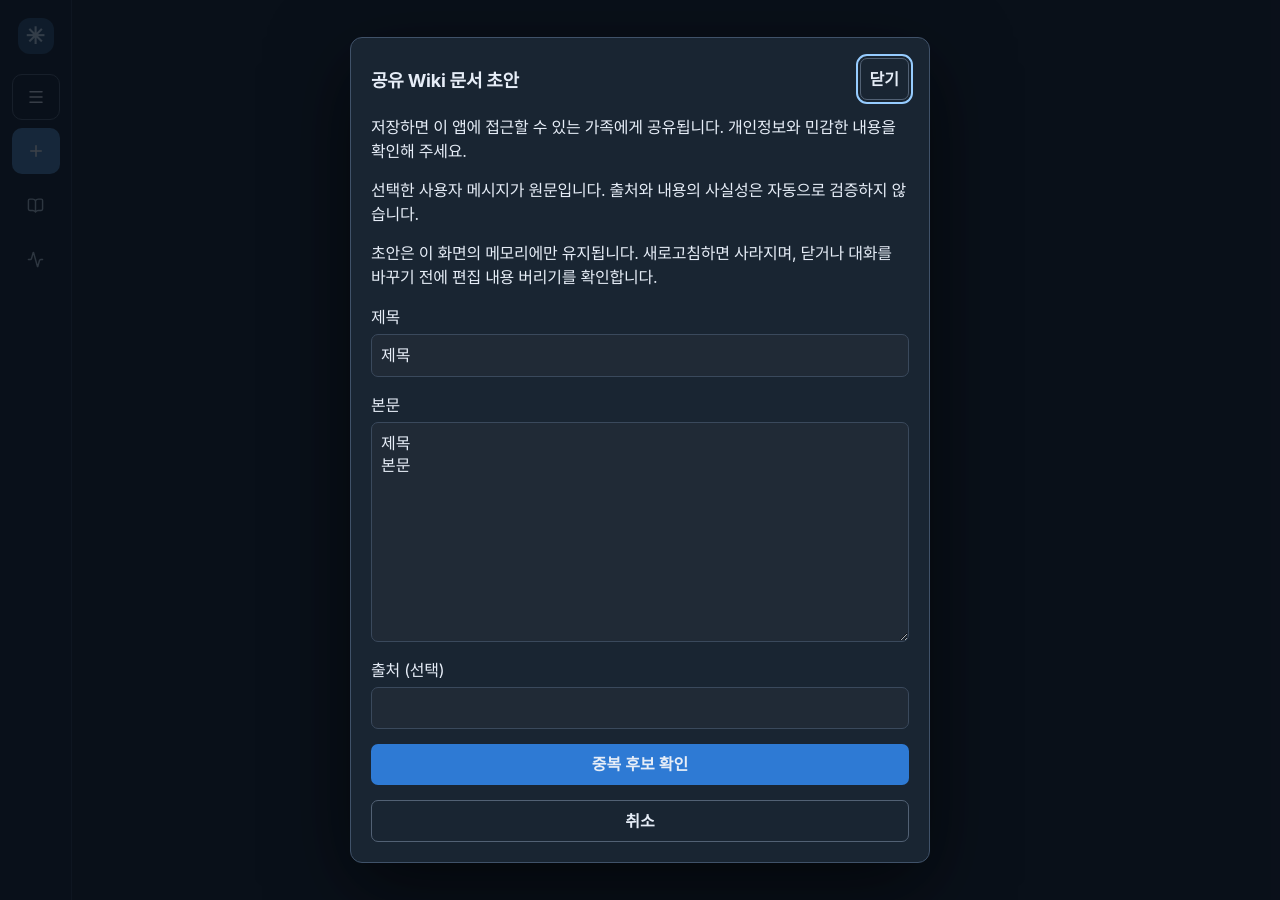
Test: reviews duplicates before saving and retries an unknown result with identical input
The image size is (1280, 900).
Click the button "중복 후보 확인" at (640, 764), box [371,744,909,785]
(page scrolled)
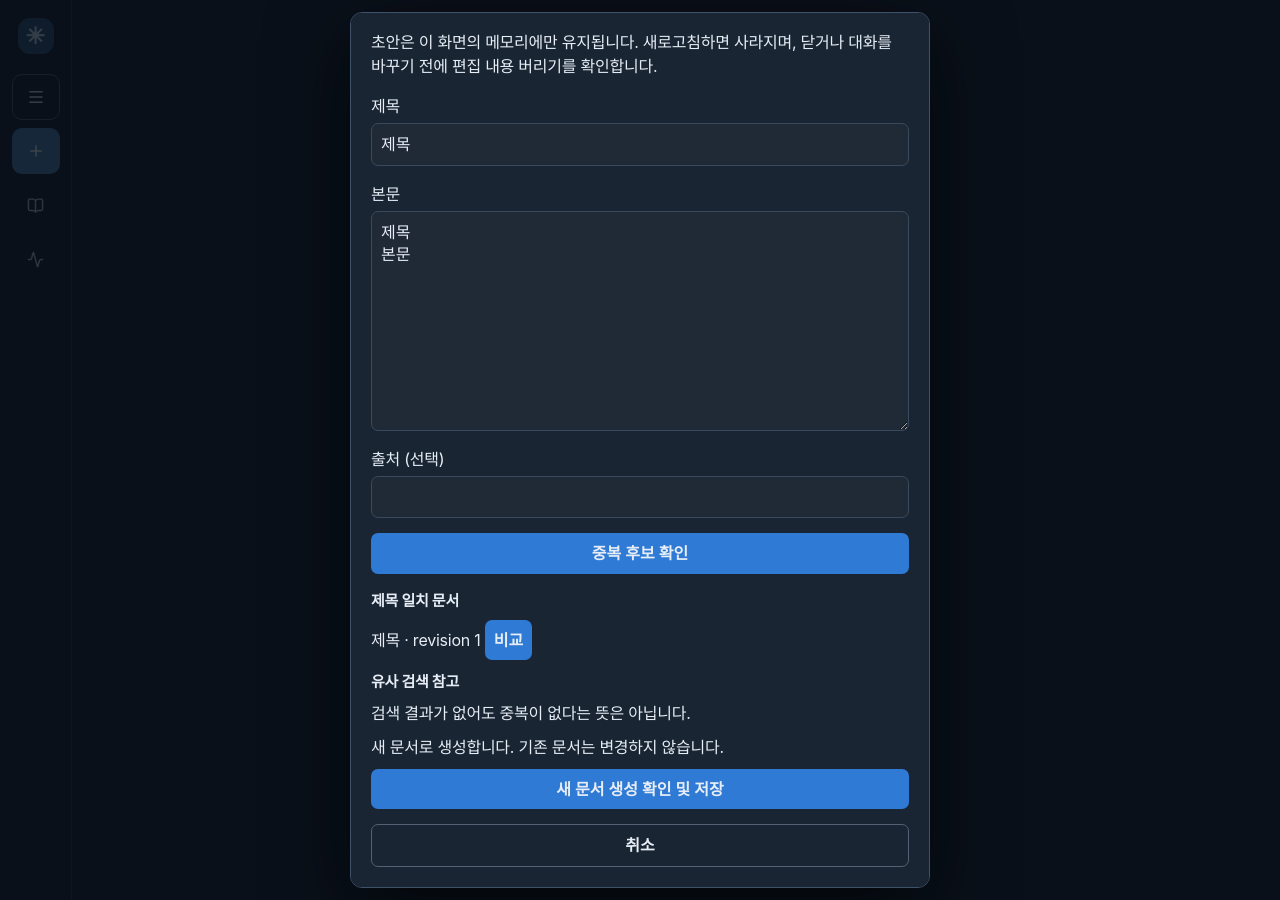
Result: the text "제목 · revision 1 비교" is shown at [371,620,532,660]
Click the button "새 문서 생성 확인 및 저장" at (640, 789), box [371,769,909,809]
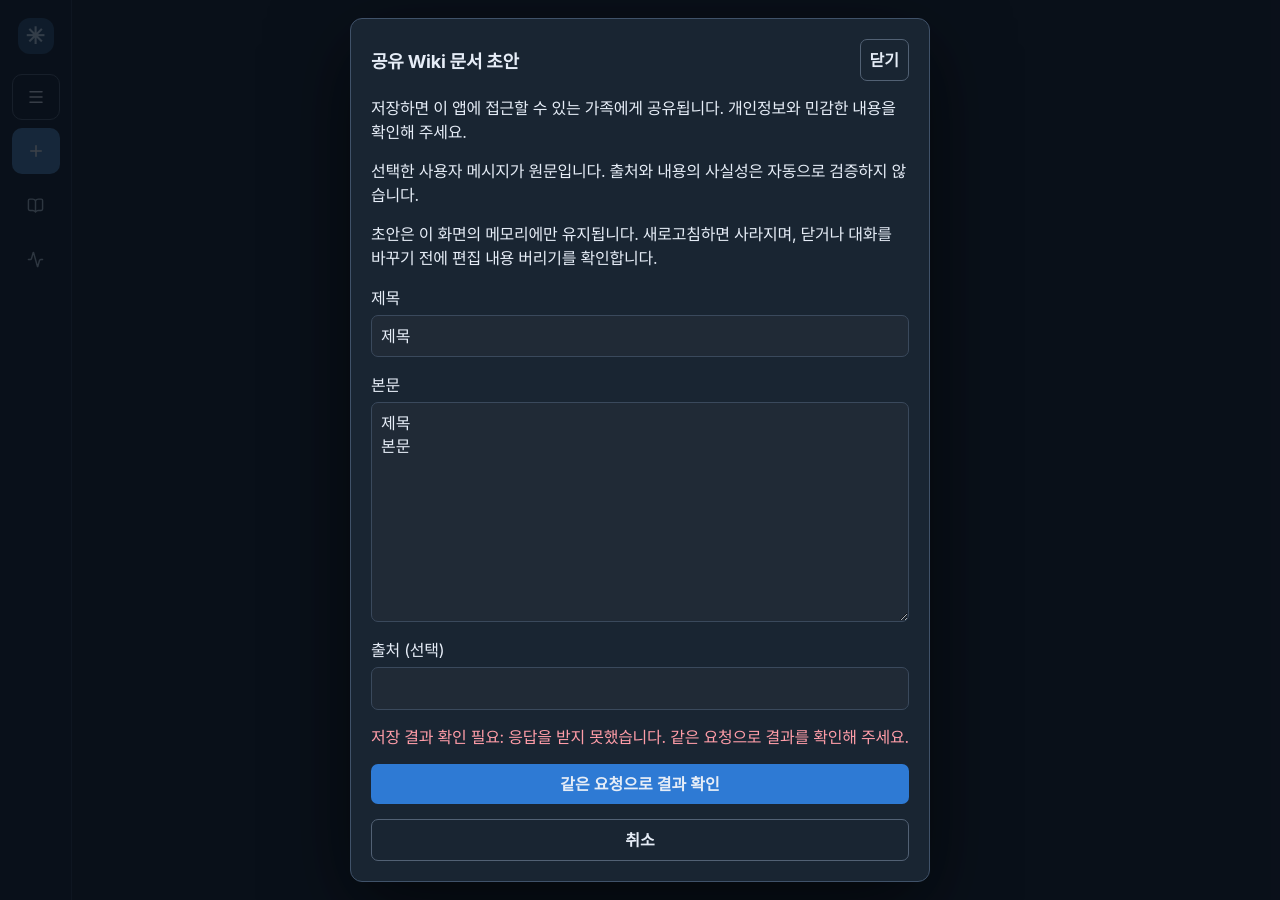
Result: the text "저장 결과 확인 필요: 응답을 받지 못했습니다. 같은 요청으로 결과를 확인해 주세요." is shown at [371,725,909,749]
Click the button "같은 요청으로 결과 확인" at (640, 784), box [371,764,909,804]
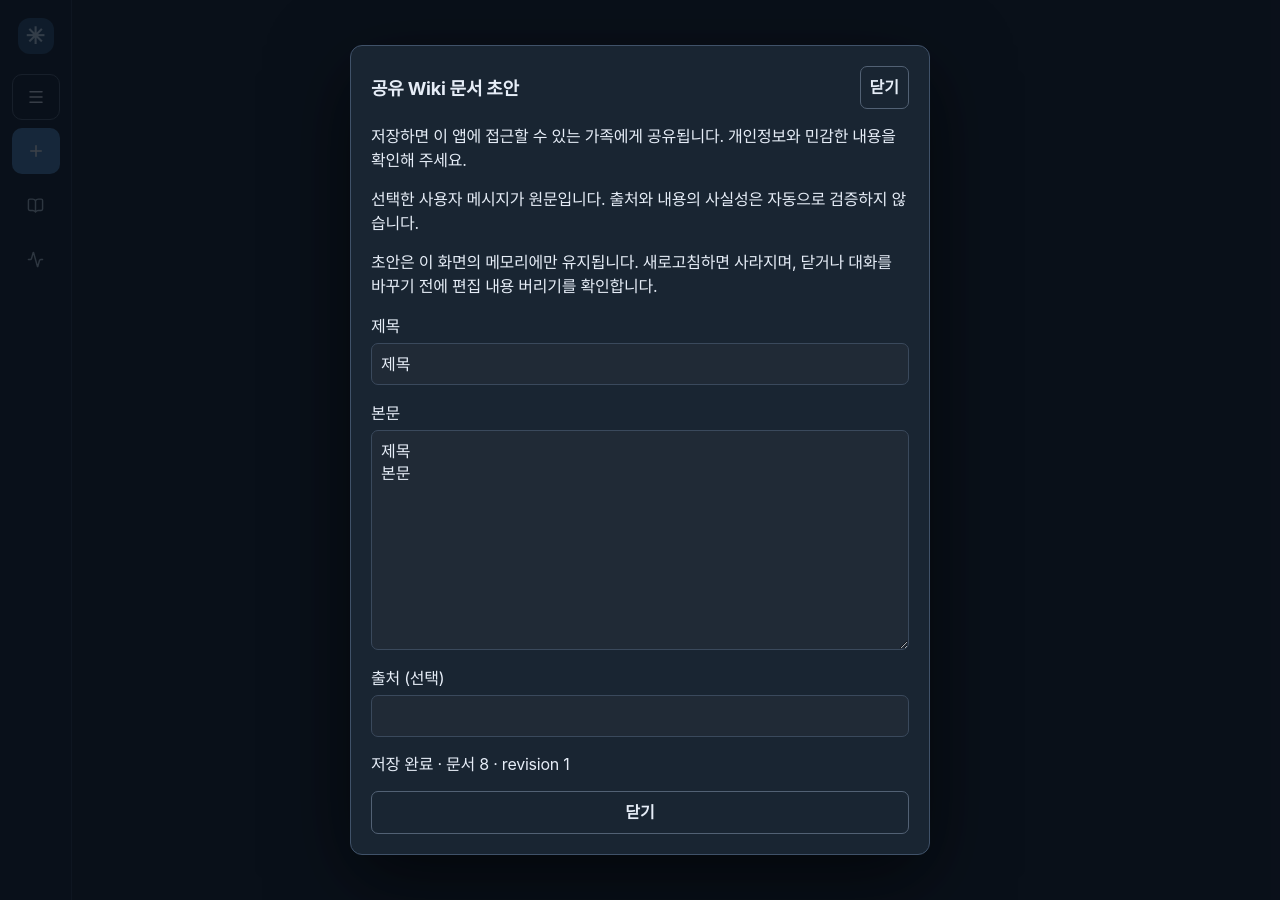
Result: the text "저장 완료 · 문서 8 · revision 1" is shown at [371,754,570,774]
